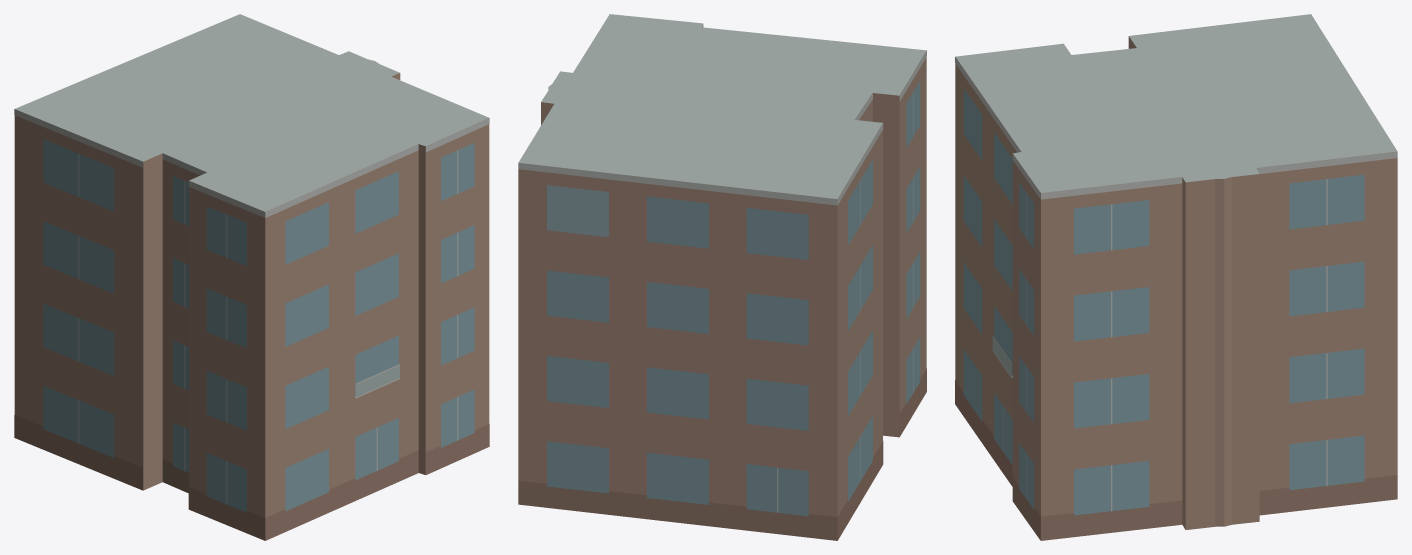
Rendered from survey-upis-32704117.glb.
The picture shows the model from 3 angles, left to right: view 1: azimuth 30°, elevation 25°; view 2: azimuth 150°, elevation 25°; view 3: azimuth 270°, elevation 25°; orthographic projection. The views are drawn at different scales.
Visible parts, largest first — view 1: survey-upis-32704117.tmp; view 2: survey-upis-32704117.tmp; view 3: survey-upis-32704117.tmp.
Part boxes in pixels (bbox=[...]): survey-upis-32704117.tmp: bbox=[14, 14, 489, 540]; survey-upis-32704117.tmp: bbox=[518, 14, 926, 540]; survey-upis-32704117.tmp: bbox=[955, 14, 1397, 540].
Size of the model in its own units: 14.42 by 13.05 by 15.06.
